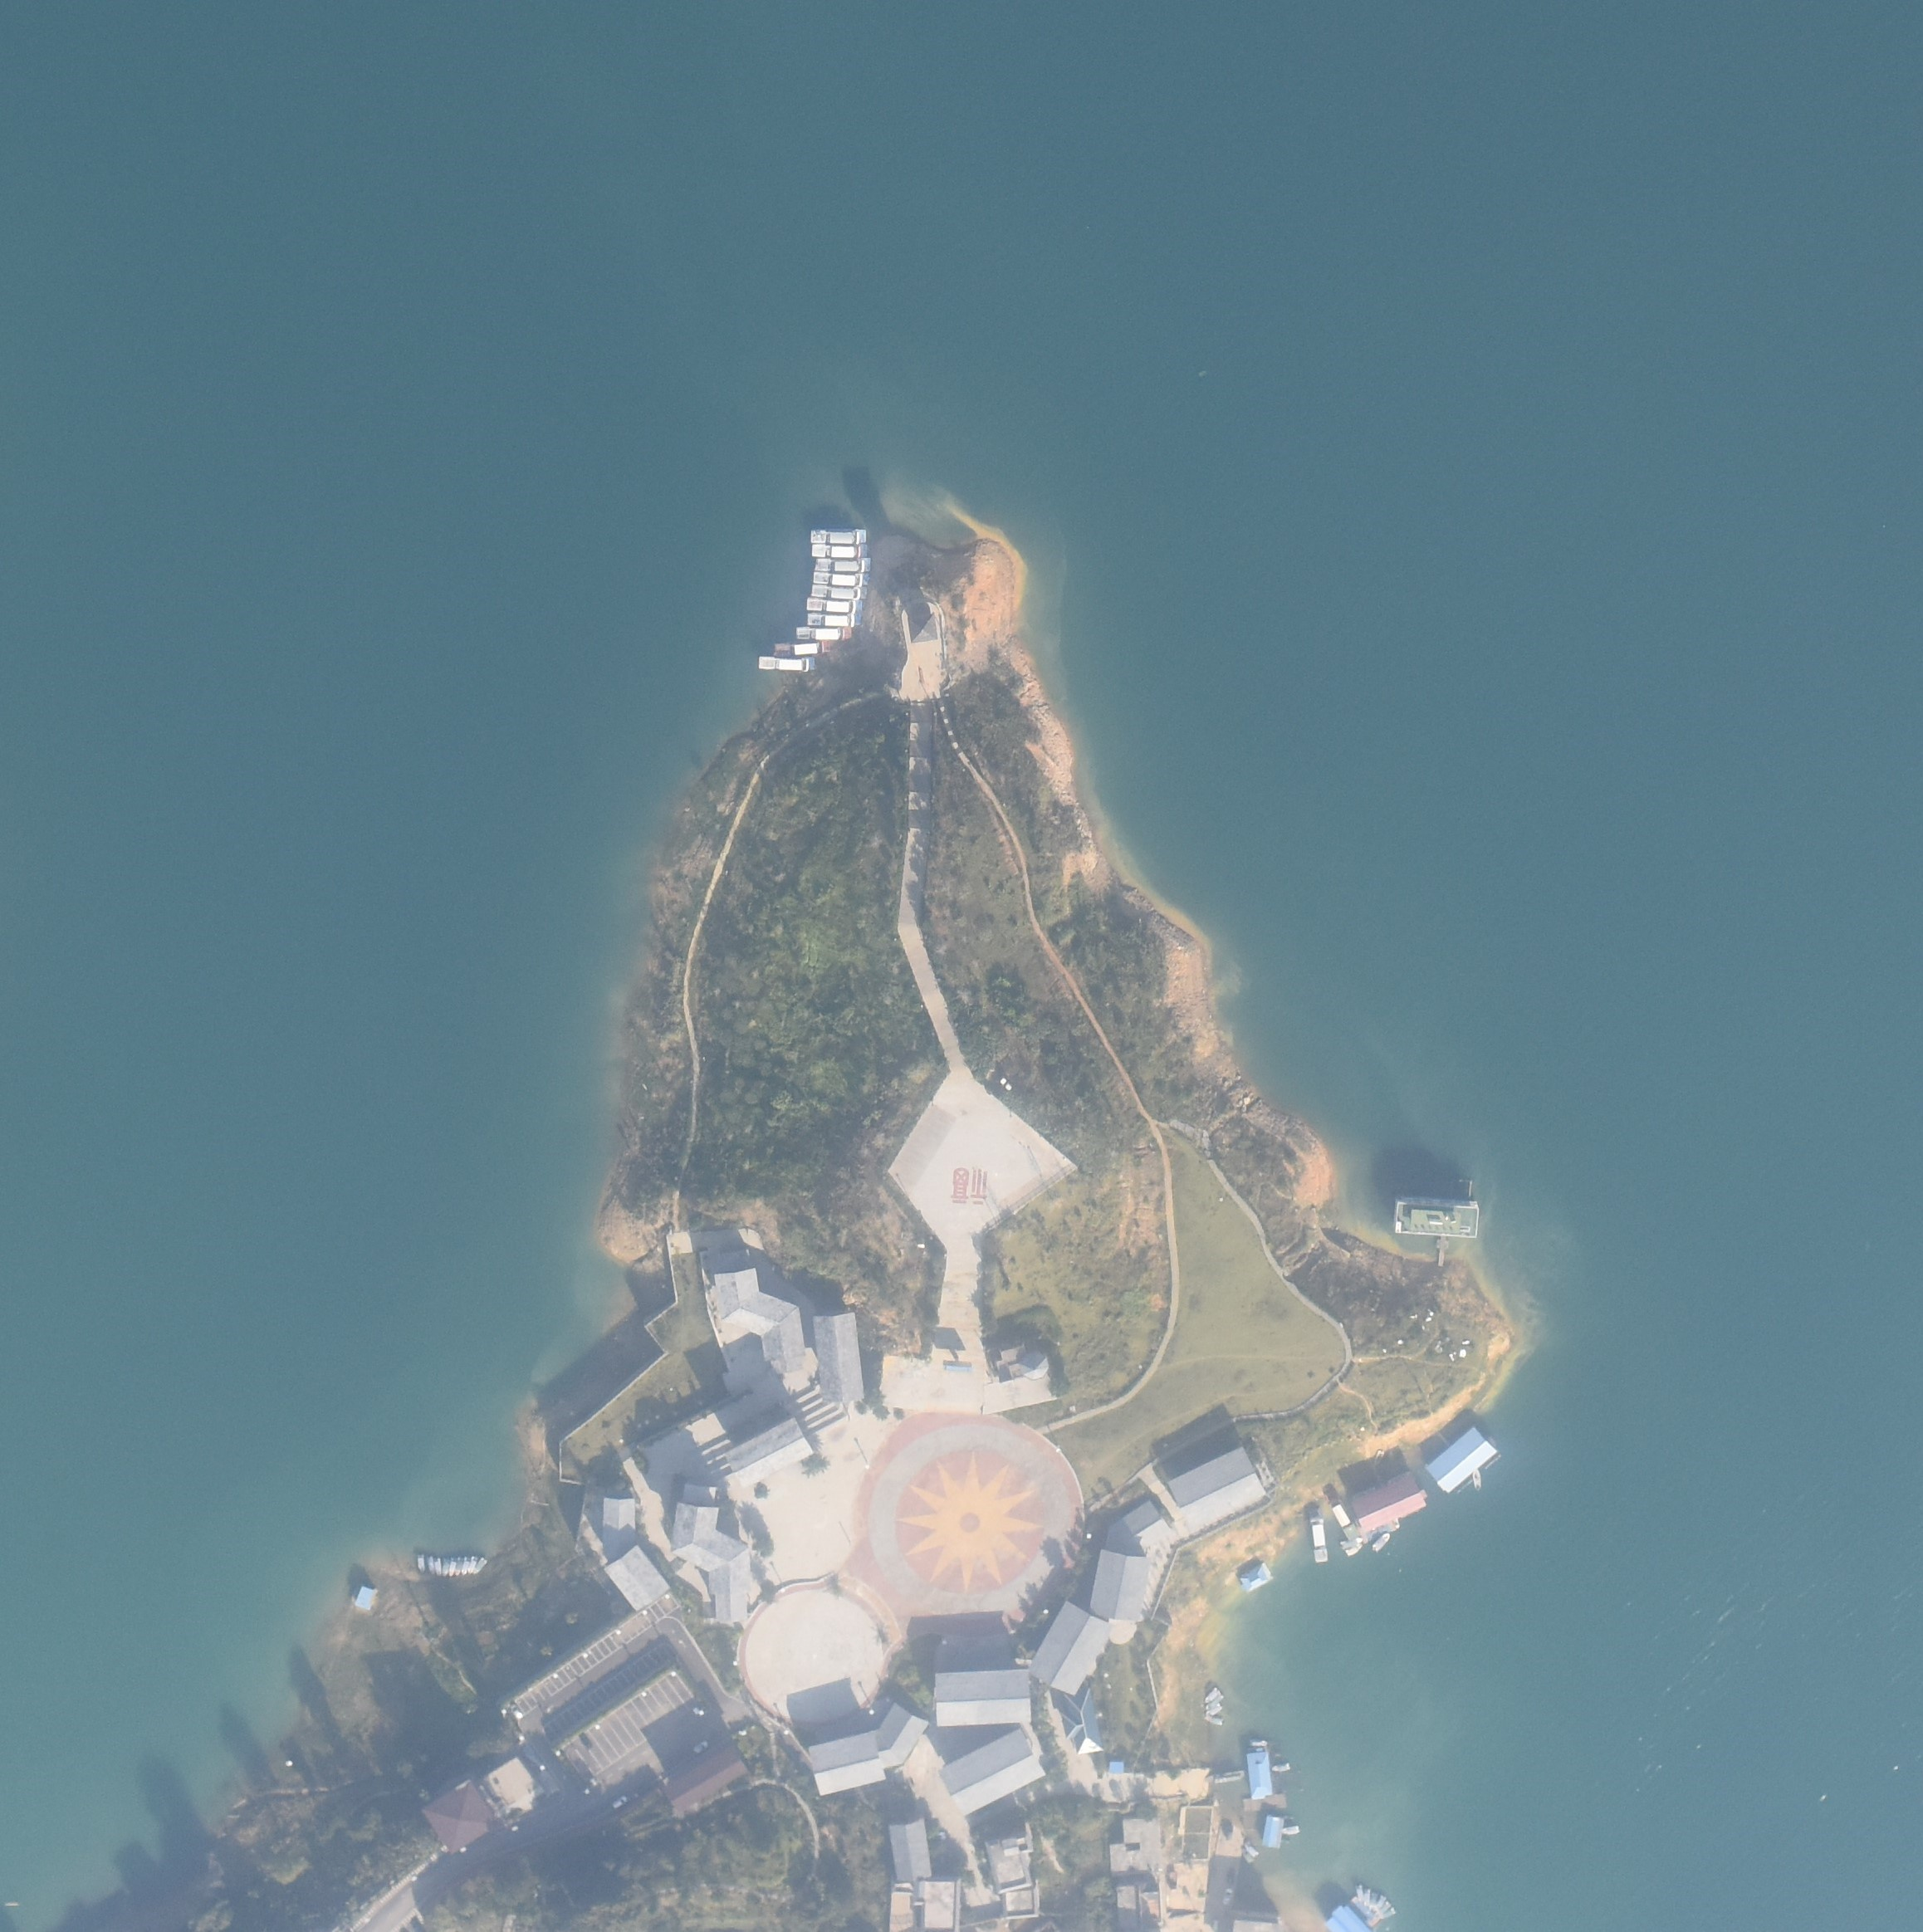building: (808, 1701, 928, 1796), (674, 1481, 747, 1624), (711, 1270, 807, 1372), (1088, 1502, 1171, 1619), (942, 1731, 1046, 1816), (602, 1497, 669, 1613), (1162, 1448, 1264, 1523), (1032, 1601, 1109, 1698), (659, 1745, 750, 1818), (727, 1414, 815, 1485), (932, 1668, 1032, 1726), (423, 1781, 497, 1853), (814, 1312, 865, 1405), (988, 1833, 1043, 1918), (891, 1883, 961, 1932), (481, 1758, 544, 1812), (1396, 1201, 1479, 1242), (1111, 1818, 1166, 1877), (1057, 1689, 1104, 1758), (888, 1819, 933, 1883), (1108, 1883, 1166, 1932), (997, 1342, 1050, 1381), (1180, 1803, 1210, 1860)
prefabricated-house: (1426, 1427, 1499, 1495), (1352, 1474, 1426, 1527), (1247, 1754, 1273, 1802), (1326, 1904, 1370, 1932), (1238, 1562, 1268, 1590), (1263, 1814, 1280, 1849), (356, 1587, 375, 1608), (1108, 1759, 1124, 1773)
ship: (1335, 1501, 1358, 1543), (812, 527, 870, 542), (814, 571, 870, 586), (805, 597, 861, 613), (812, 585, 866, 601), (796, 627, 851, 643), (761, 653, 815, 669), (1312, 1516, 1328, 1564), (810, 546, 866, 558), (775, 643, 831, 655), (815, 560, 870, 572), (808, 615, 863, 627), (1370, 1449, 1386, 1485), (1212, 1770, 1243, 1784), (1375, 1532, 1391, 1552), (474, 1557, 488, 1576), (1342, 1537, 1363, 1550), (1206, 1694, 1222, 1710), (1205, 1714, 1224, 1726), (1203, 1687, 1217, 1703), (1472, 1467, 1481, 1492), (1347, 1543, 1361, 1557), (1208, 1707, 1224, 1719), (1243, 1844, 1259, 1856), (416, 1553, 424, 1574), (1271, 1763, 1291, 1772), (426, 1555, 435, 1574), (1381, 1907, 1396, 1918), (1250, 1738, 1268, 1747), (1280, 1826, 1298, 1835), (1354, 1883, 1363, 1900), (468, 1555, 475, 1576), (1381, 1900, 1389, 1916), (456, 1557, 463, 1576), (1377, 1893, 1384, 1911), (449, 1555, 454, 1578), (1365, 1888, 1370, 1909), (433, 1557, 438, 1578), (463, 1555, 468, 1576), (444, 1559, 449, 1578), (1245, 1853, 1252, 1867), (1370, 1891, 1374, 1911)
vehicle: (1220, 1886, 1234, 1907), (689, 1740, 710, 1754), (1224, 1865, 1236, 1888), (581, 1735, 597, 1751), (611, 1795, 627, 1810), (1220, 1825, 1234, 1842), (1168, 1869, 1178, 1891), (511, 1703, 523, 1717), (694, 1708, 703, 1717)
